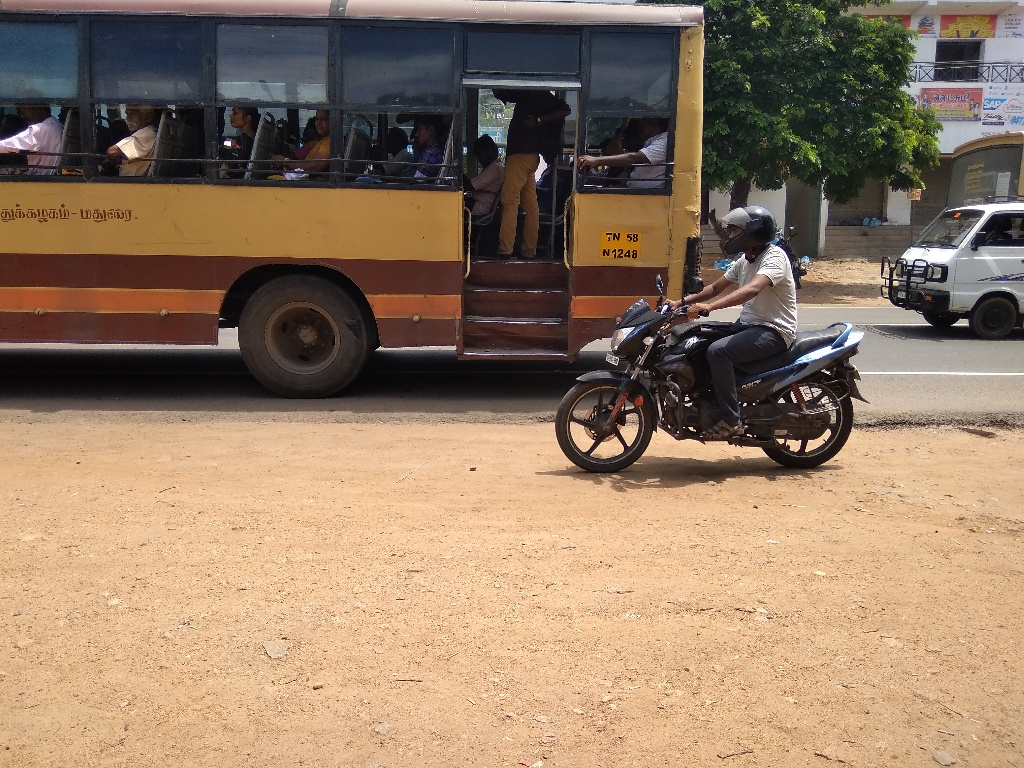biker: (533, 172, 897, 494)
helmet: (712, 197, 789, 265)
